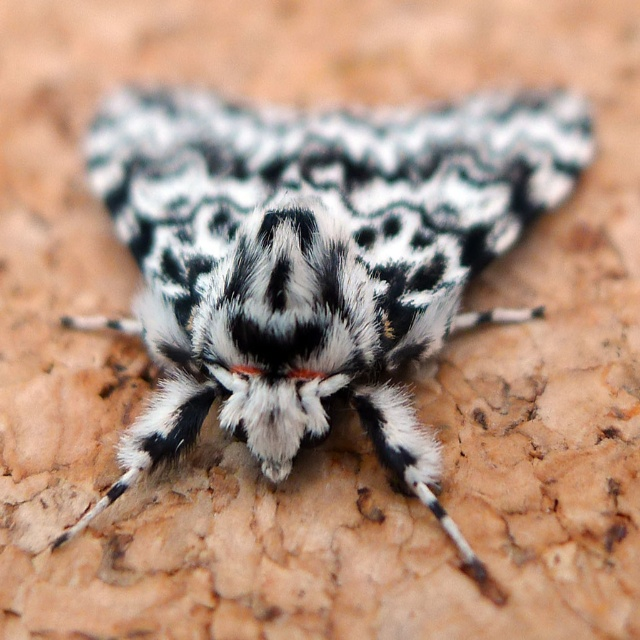Moths and butterflies: (44, 76, 604, 604)
